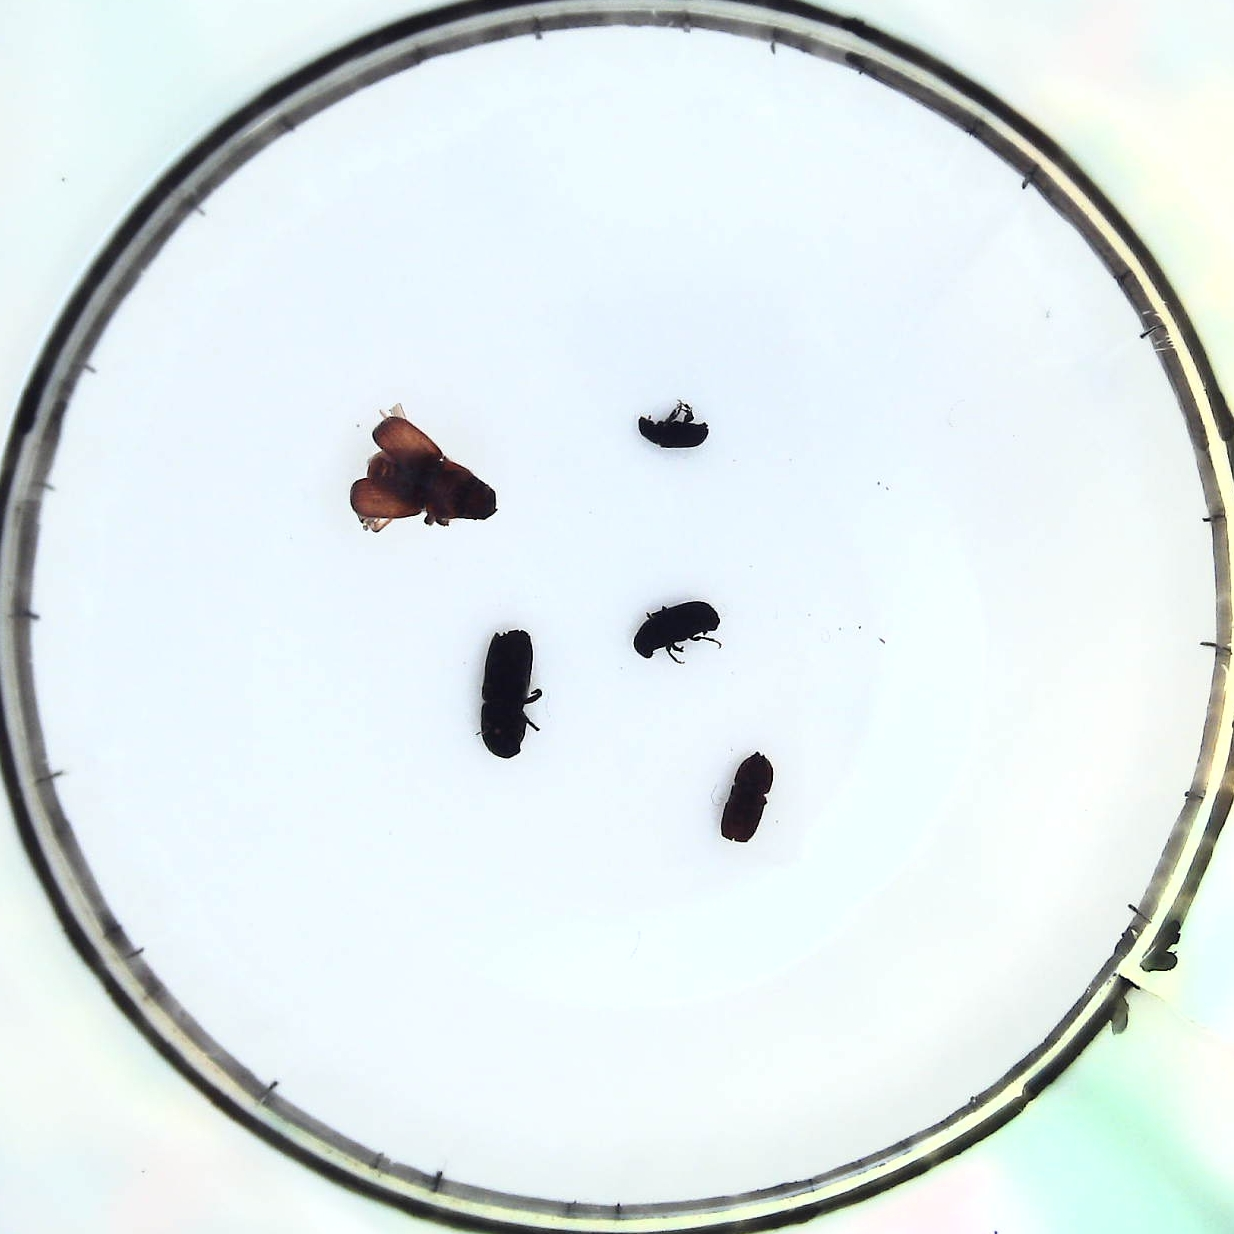Boerner: (484, 623, 540, 764)
Leconte: (350, 414, 498, 528)
Linnaeus: (720, 749, 771, 840)
armandi: (635, 596, 720, 669)
coleoptera: (632, 398, 710, 449)
